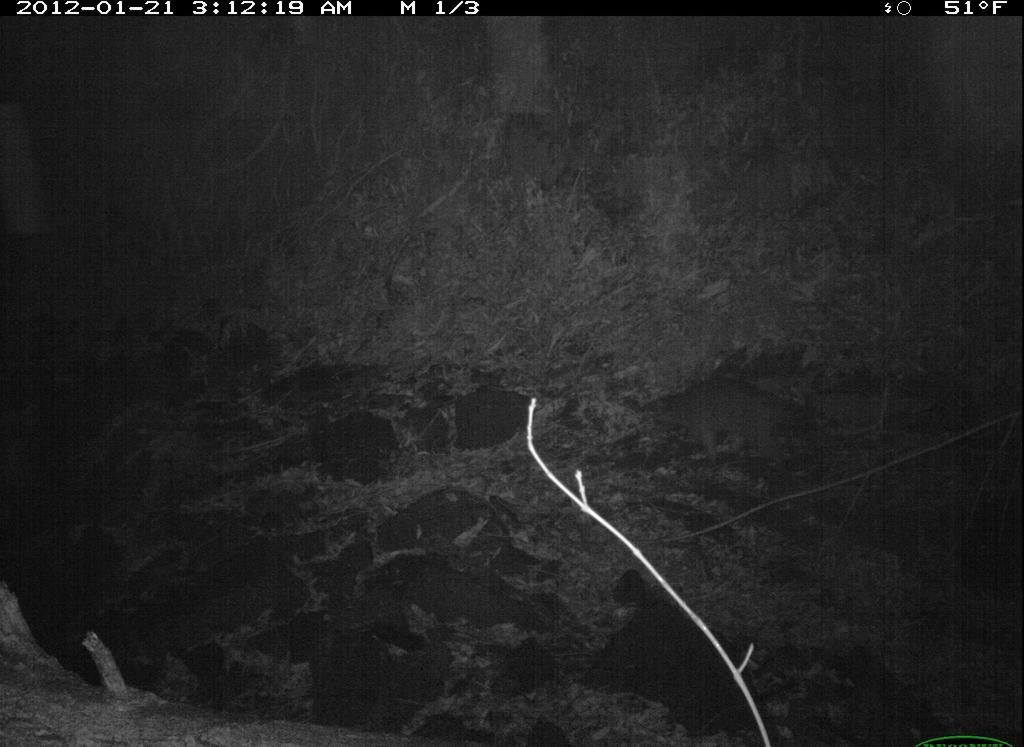raccoon: (633, 368, 830, 475)
